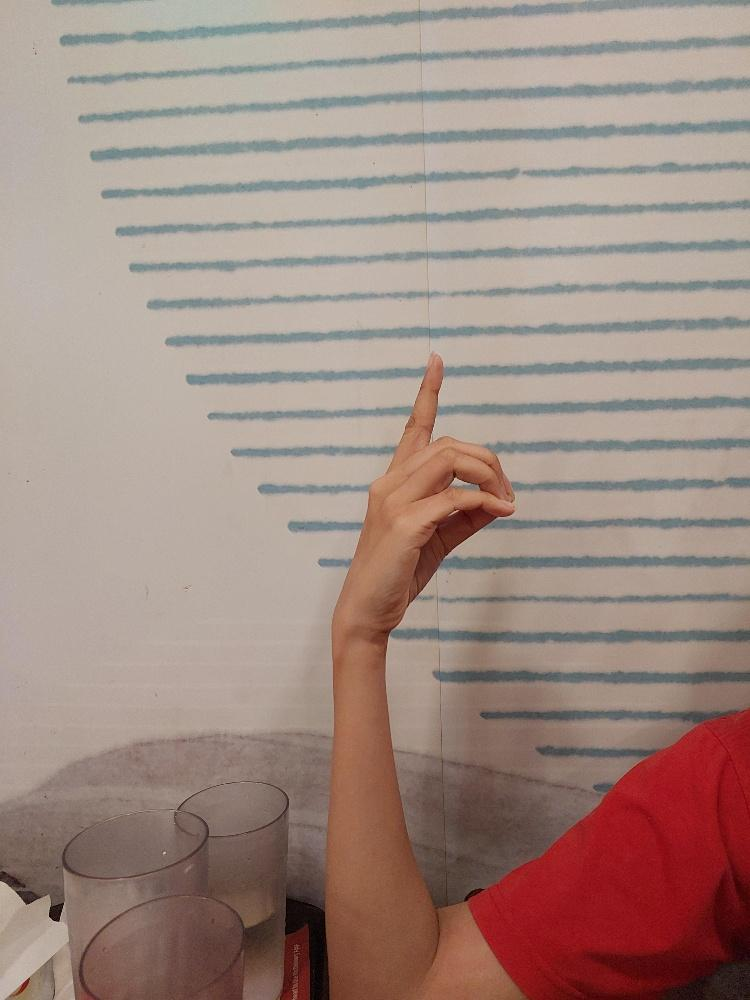d: (342, 346, 518, 635)
